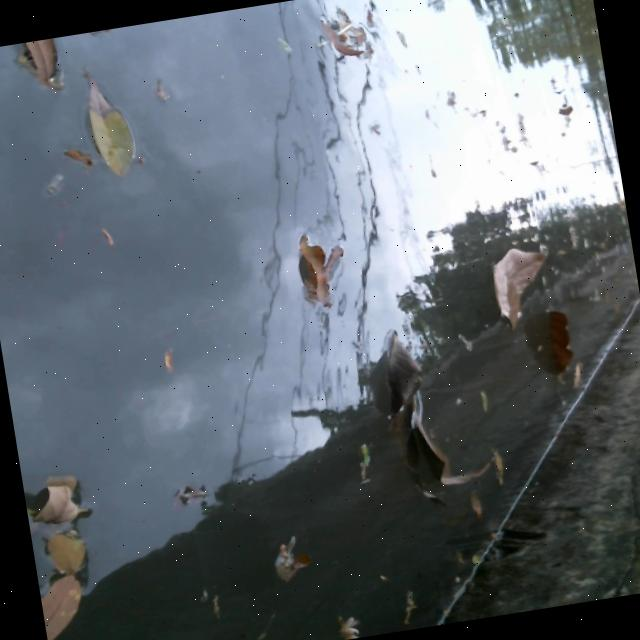Big-leaf: (367, 317, 497, 508), (281, 225, 355, 319), (483, 237, 550, 333), (535, 306, 580, 378)
Small-leaf: (77, 77, 147, 198), (257, 533, 336, 593), (3, 36, 75, 101), (38, 575, 96, 640), (337, 443, 385, 504), (314, 6, 356, 60), (43, 537, 98, 578), (141, 338, 180, 379), (84, 218, 122, 251), (458, 484, 490, 522), (466, 387, 499, 420), (56, 148, 89, 171), (338, 611, 362, 638), (485, 454, 503, 489), (569, 359, 588, 392), (469, 550, 491, 568)
